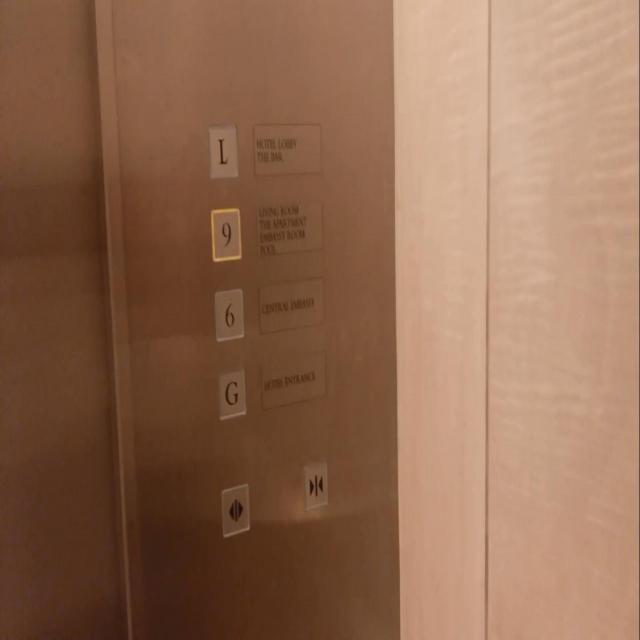6: (212, 285, 246, 345)
9: (208, 205, 242, 263)
G: (216, 364, 247, 422)
L: (207, 120, 239, 180)
close: (304, 459, 329, 509)
open: (220, 480, 250, 542)
